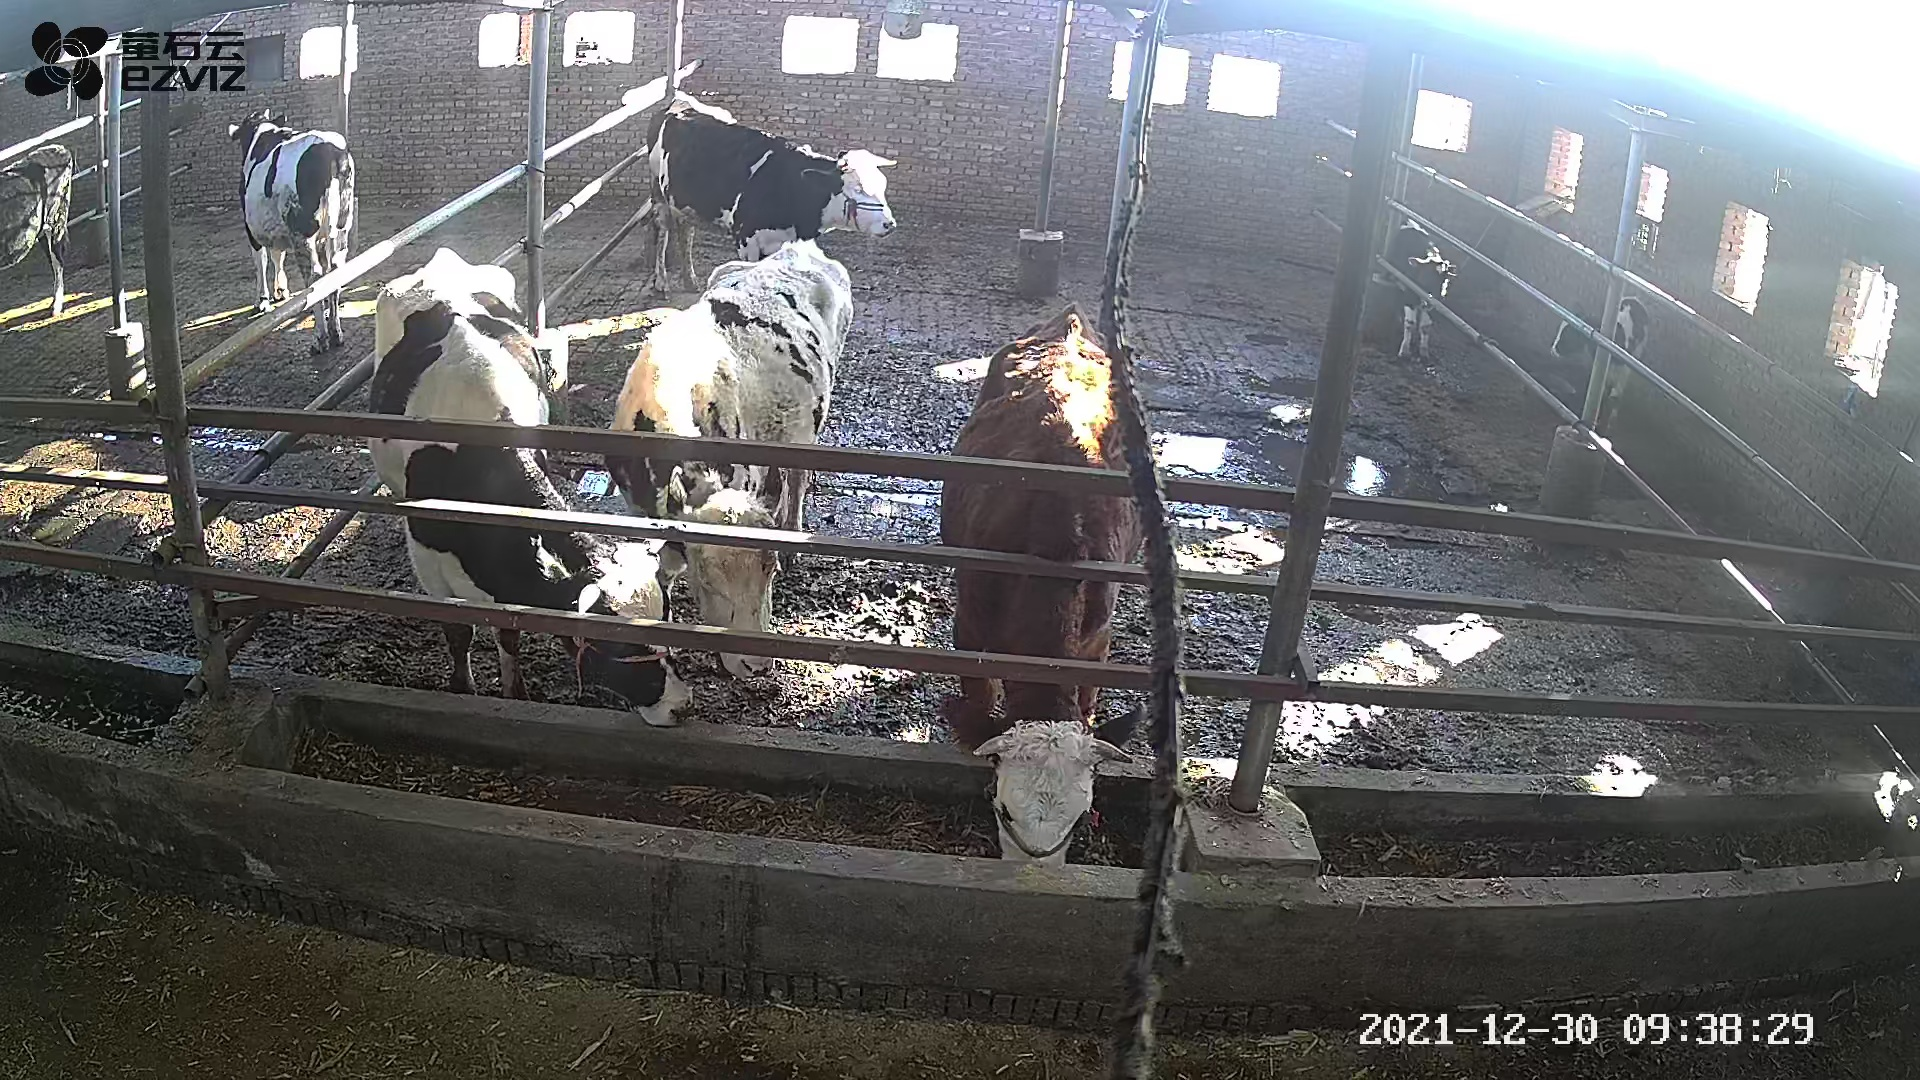cow: (367, 243, 696, 732), (939, 301, 1139, 870), (601, 236, 852, 683), (644, 90, 898, 298)
